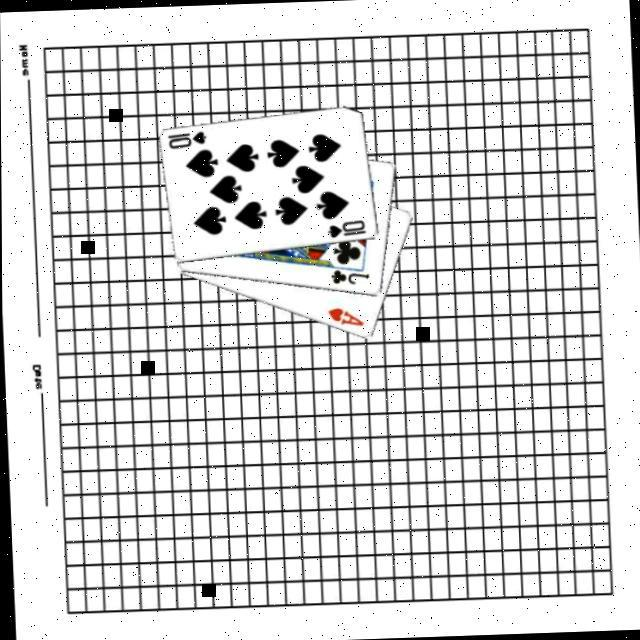10S: (323, 215, 368, 239), (163, 126, 208, 150)
AH: (324, 301, 364, 328)
JC: (326, 264, 371, 286)
